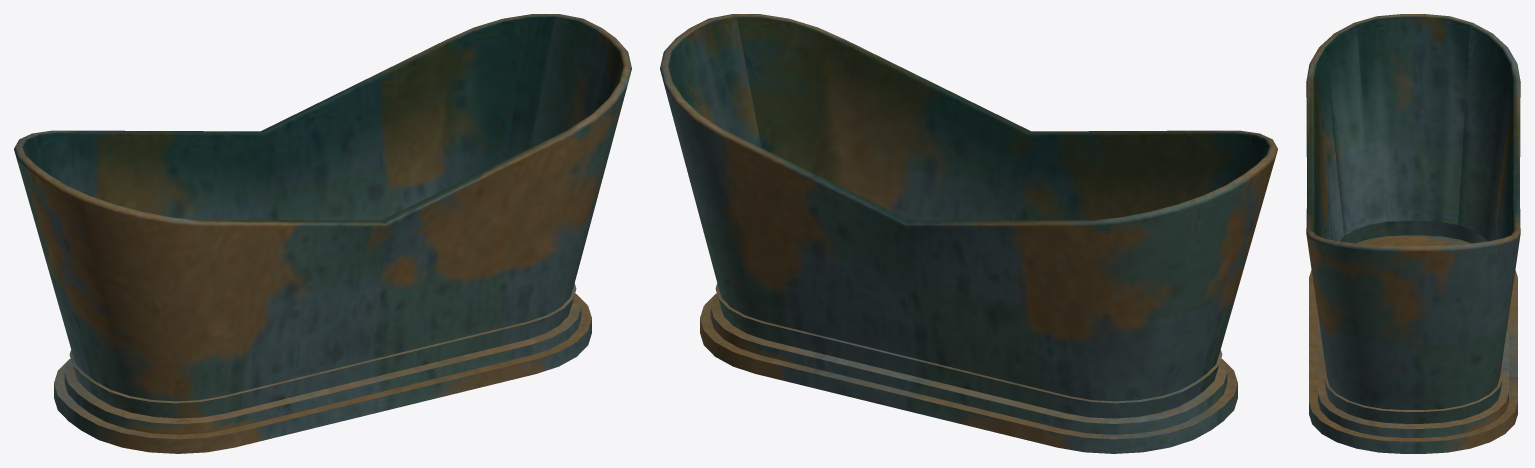
Rendered from Bath_Bath_0.fbx.
3 renders of one model, left to right at view 1: azimuth 30°, elevation 25°; view 2: azimuth 150°, elevation 25°; view 3: azimuth 270°, elevation 25°, orthographic. The views are drawn at different scales.
Parts seen in each view (by area): view 1: Bath_Bath_0; view 2: Bath_Bath_0; view 3: Bath_Bath_0.
Boxes of the visible parts, x1,y1,x2,y2 form: Bath_Bath_0: [14, 14, 631, 453]; Bath_Bath_0: [660, 14, 1277, 453]; Bath_Bath_0: [1306, 14, 1520, 453].
Size of the model in its own units: 200 by 88 by 76.96.
1 material, 1 textured.
